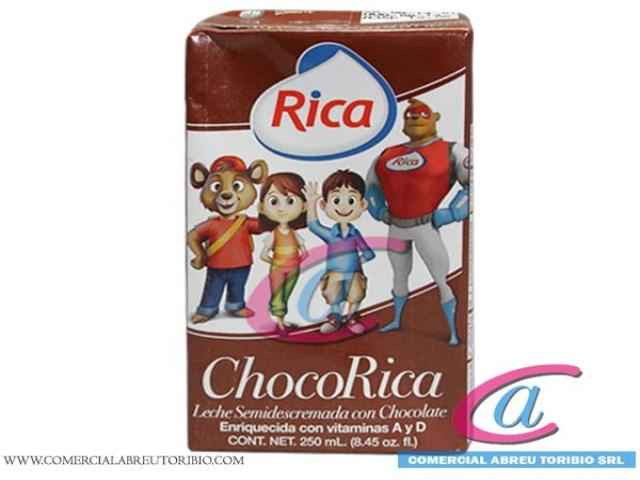drink_box: (172, 3, 484, 461)
